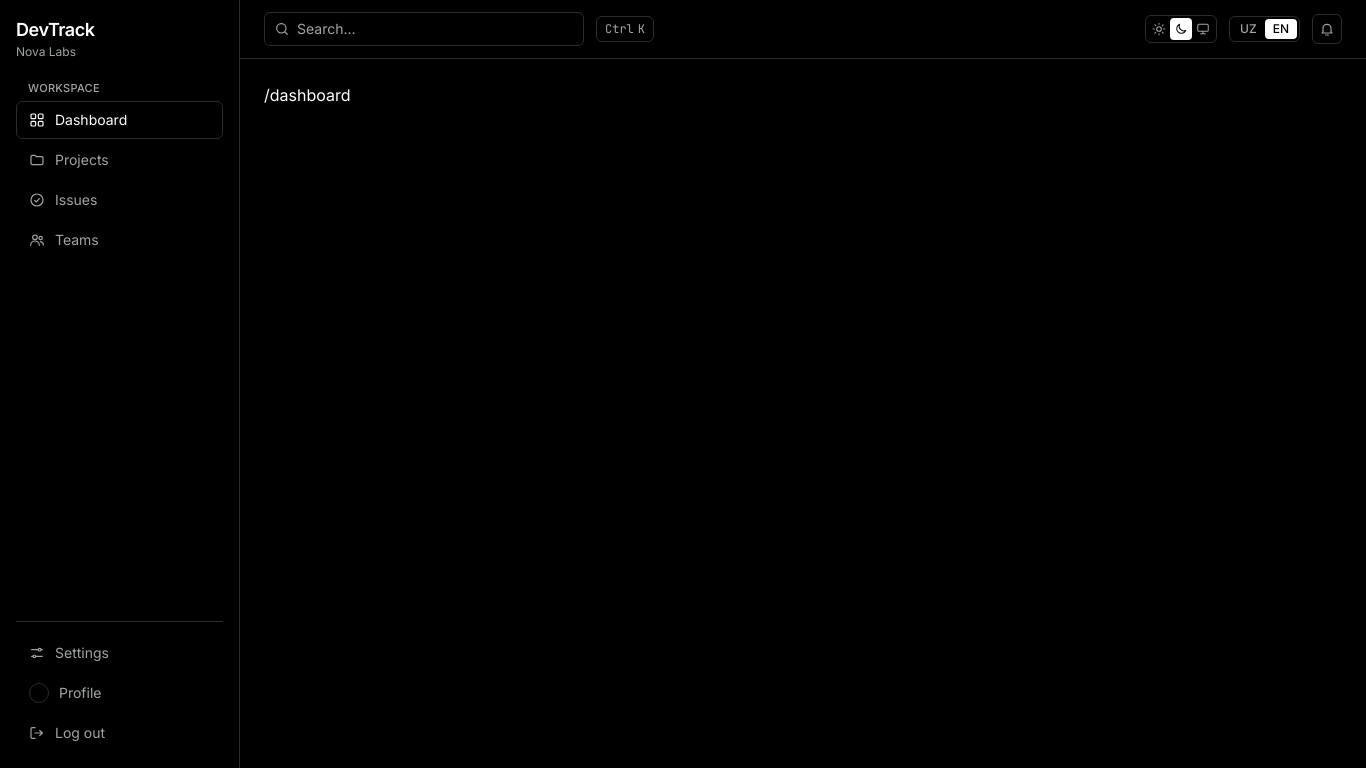
Test: Layout keyboard shortcuts › shows the shortcuts list on ? and runs a palette command through to navigation
The image size is (1366, 768).
Step 1. Type keys "?"
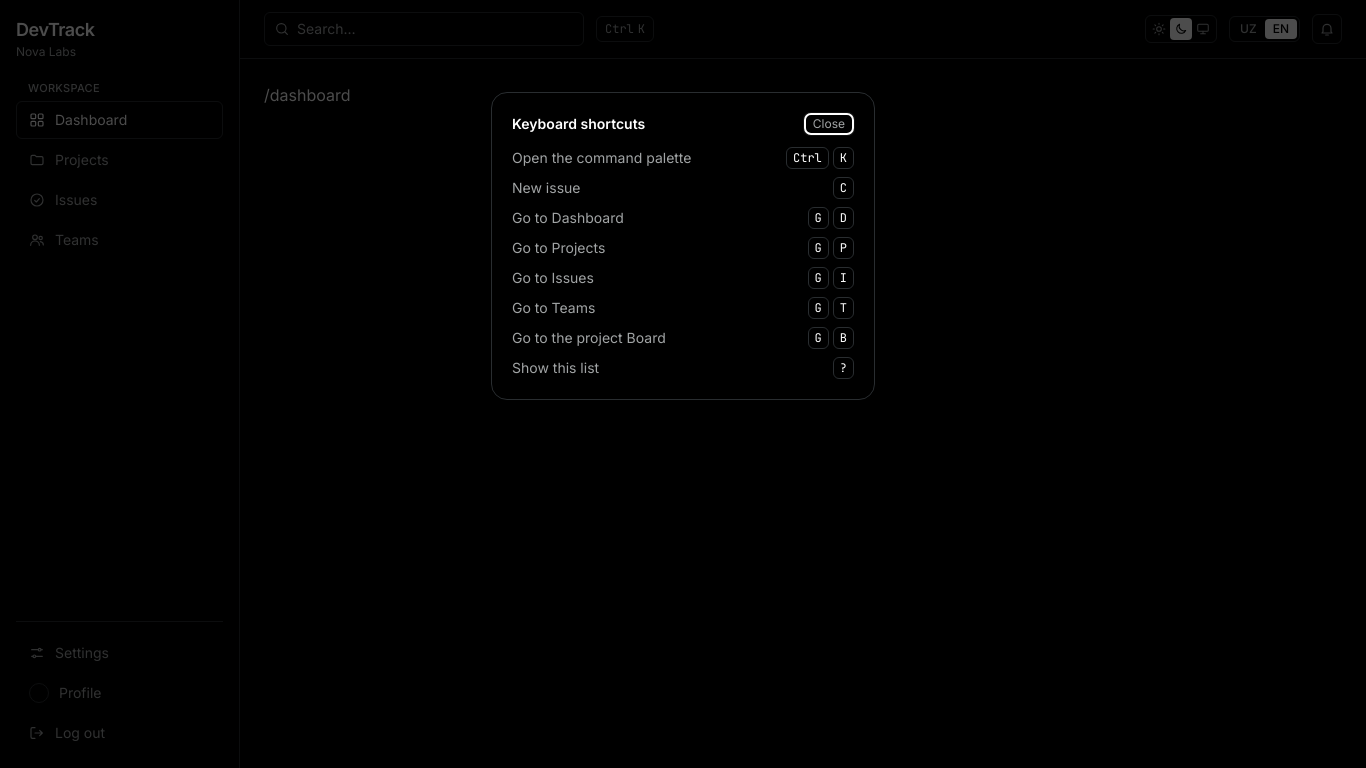
Now the dialog "Keyboard shortcuts" is shown, box x1=491 y1=92 x2=875 y2=400
Step 2. Press Escape
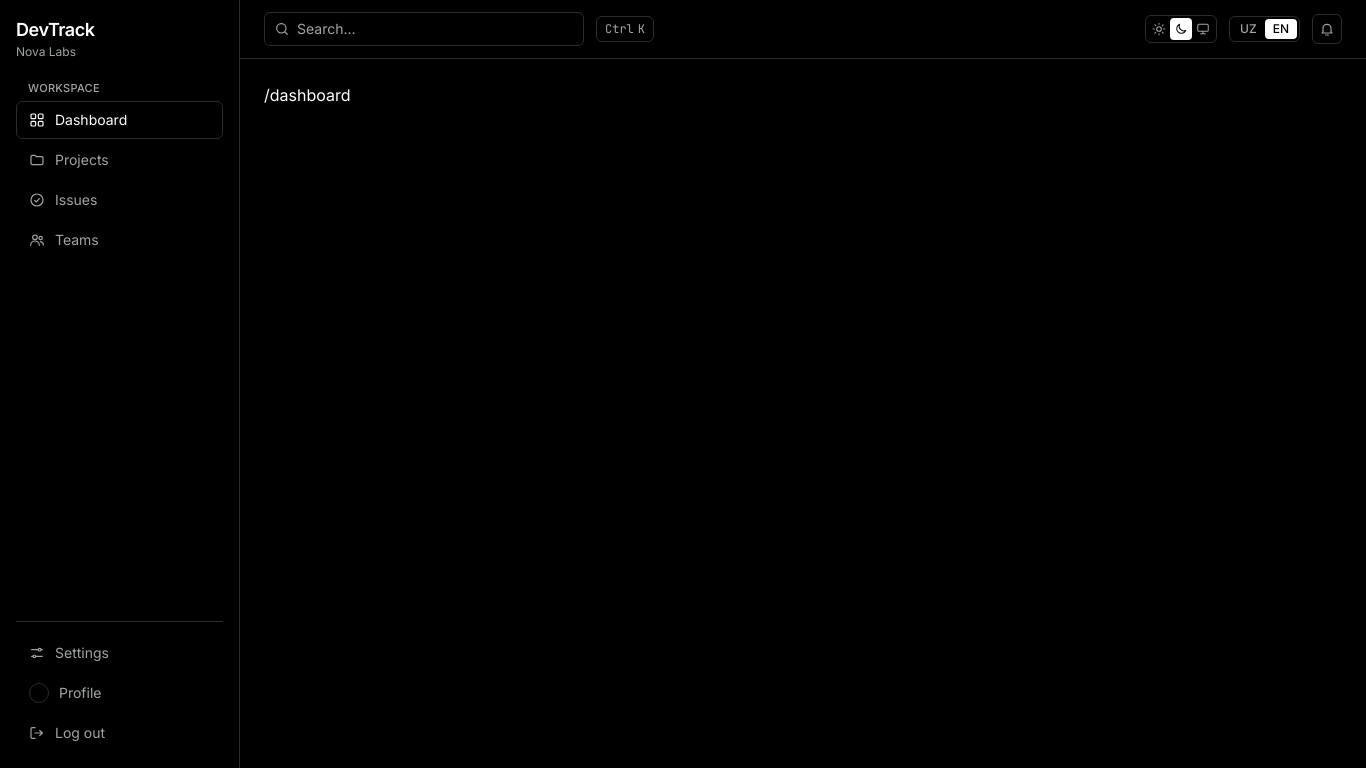
Step 3. Type keys "{Control>}k{/Control}"
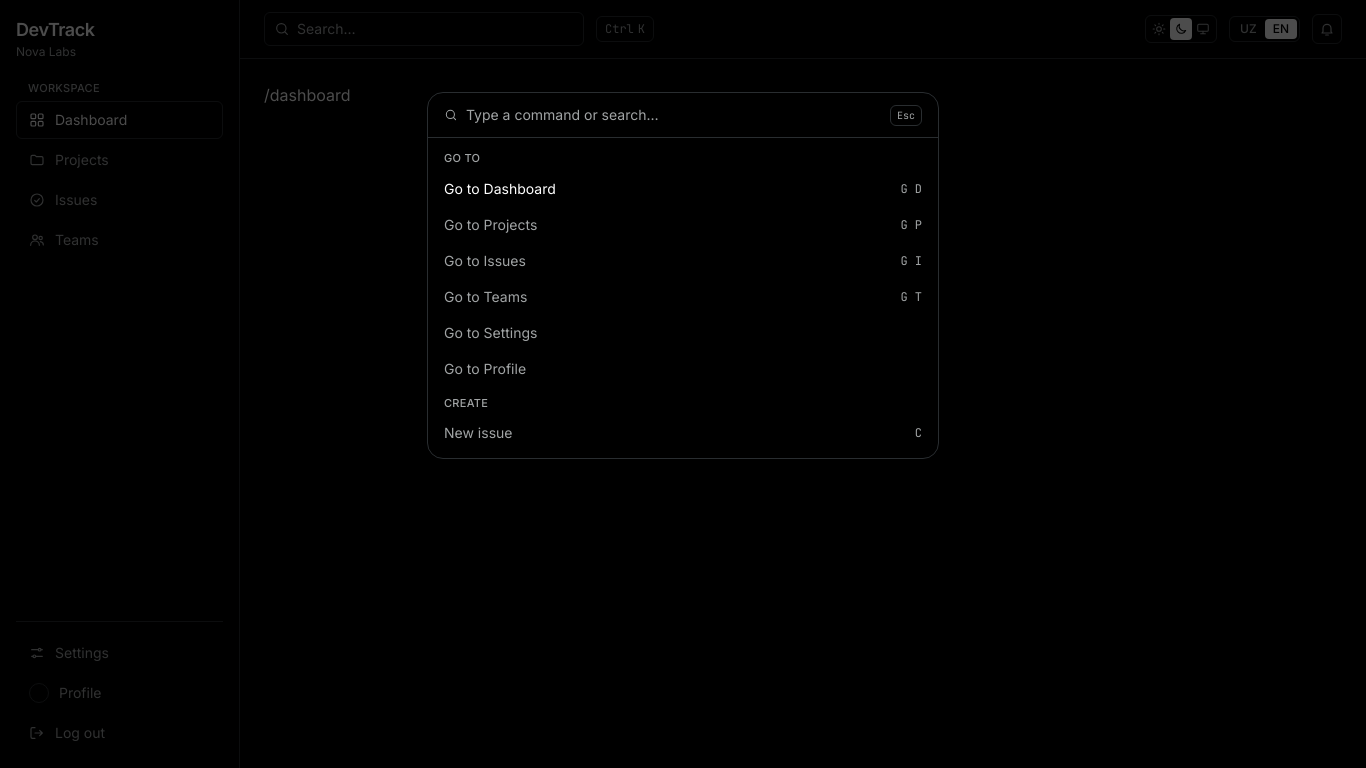
Step 4. Type "teams" into the dropdown → (674,115), box x1=466 y1=93 x2=882 y2=137
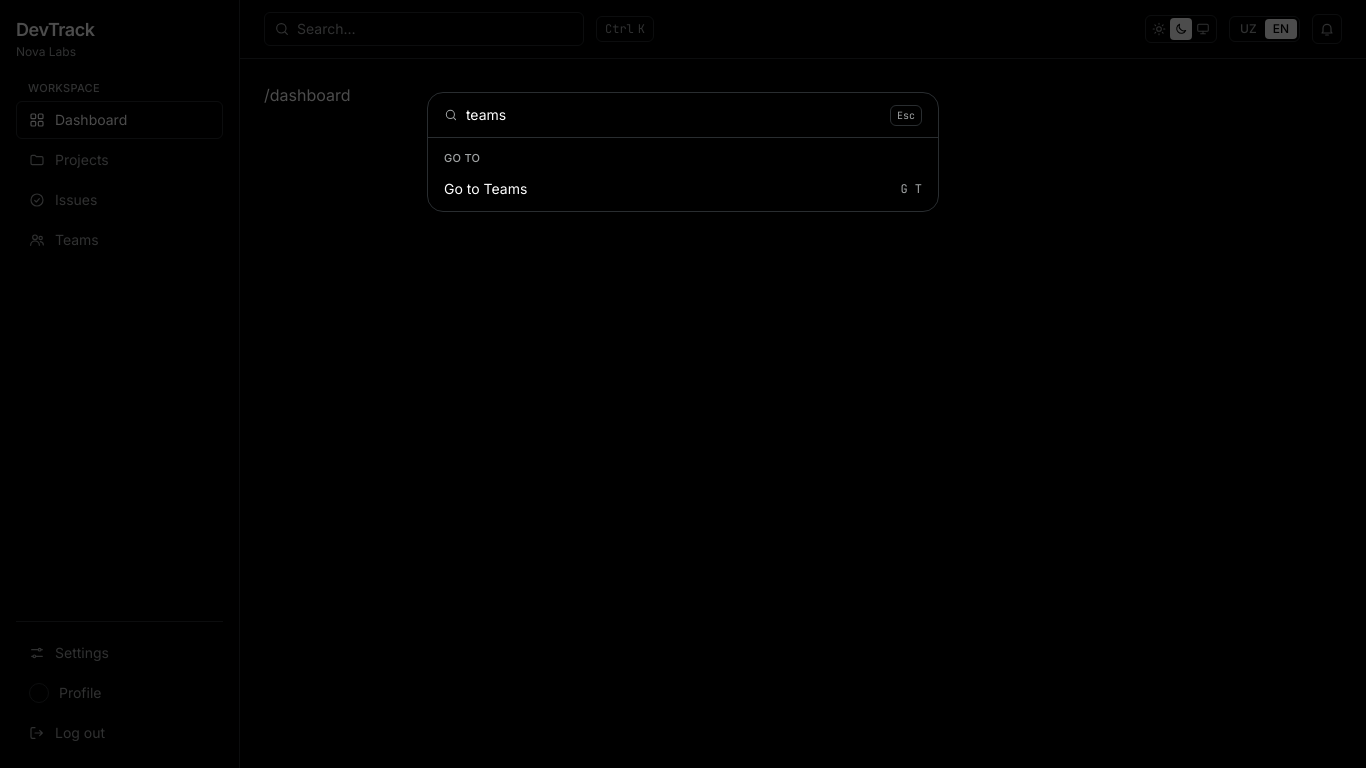
Step 5. Press Enter
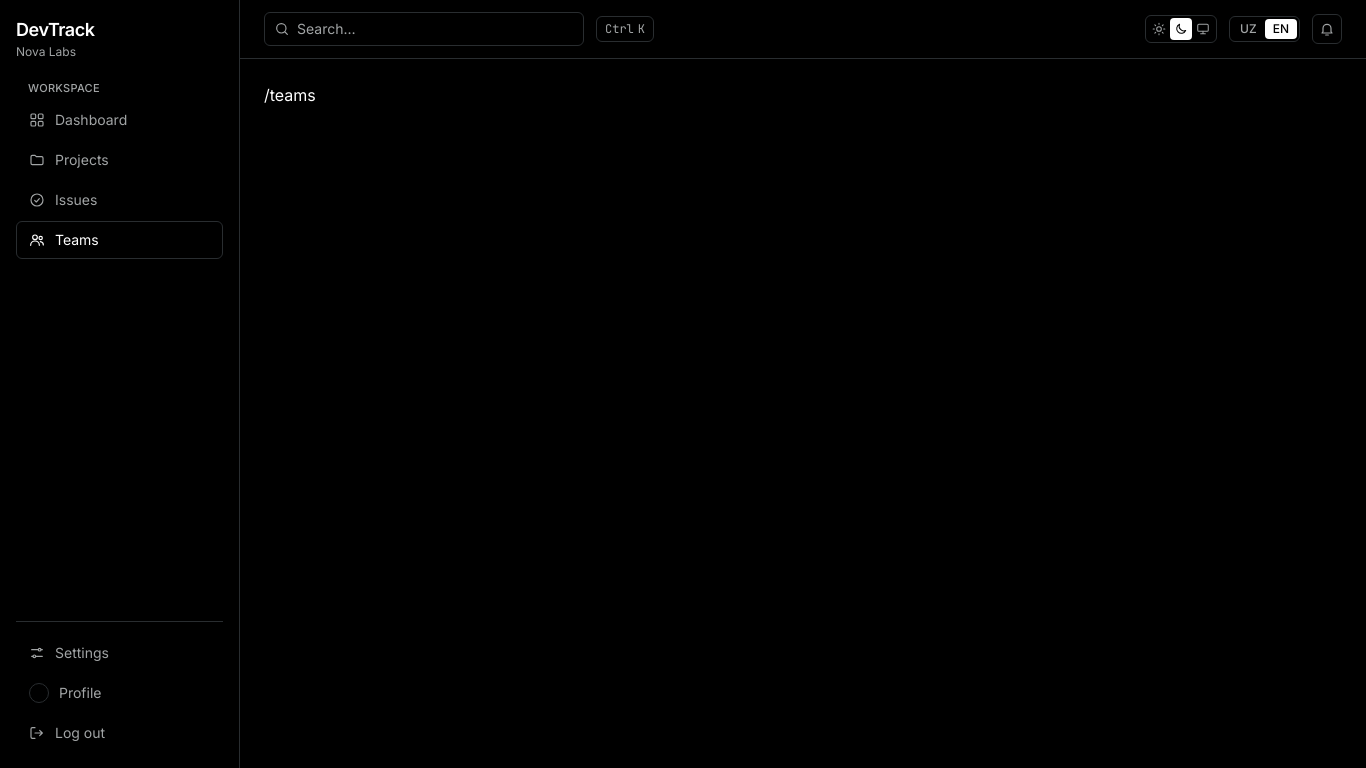
Now the text with test id "where" reads "/teams", box x1=264 y1=85 x2=316 y2=105
